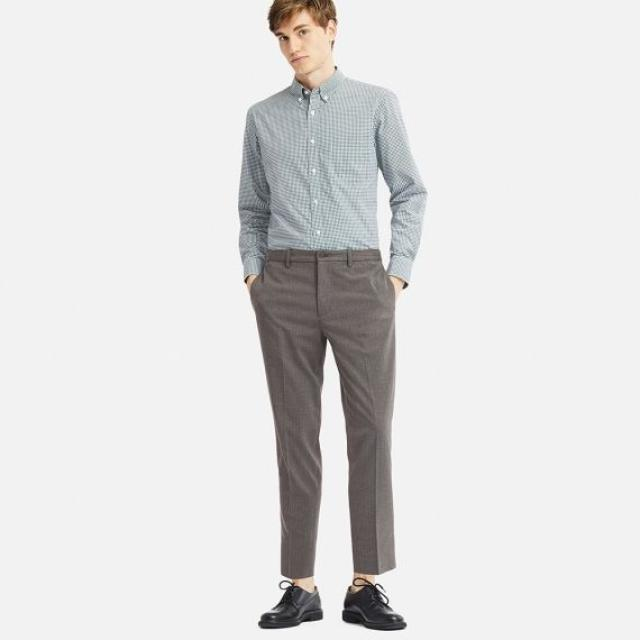human: (231, 0, 430, 640)
